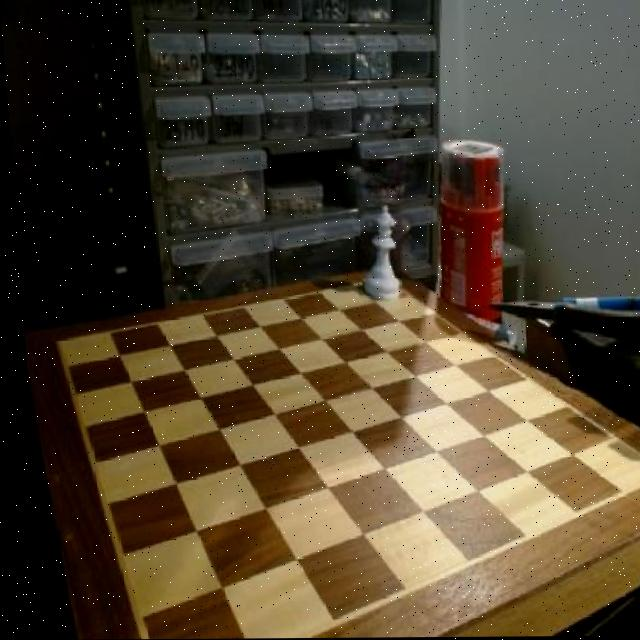white-pawn: (353, 199, 402, 306)
